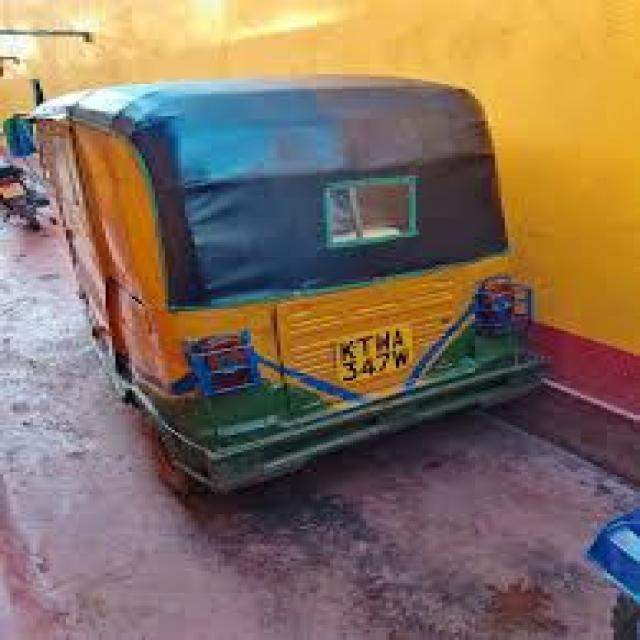tuktuk: (14, 39, 578, 524)
